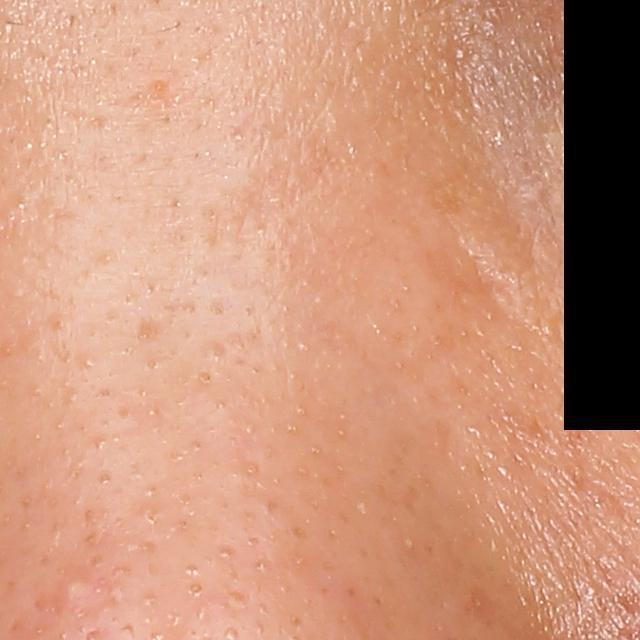comedo: (194, 368, 215, 386)
